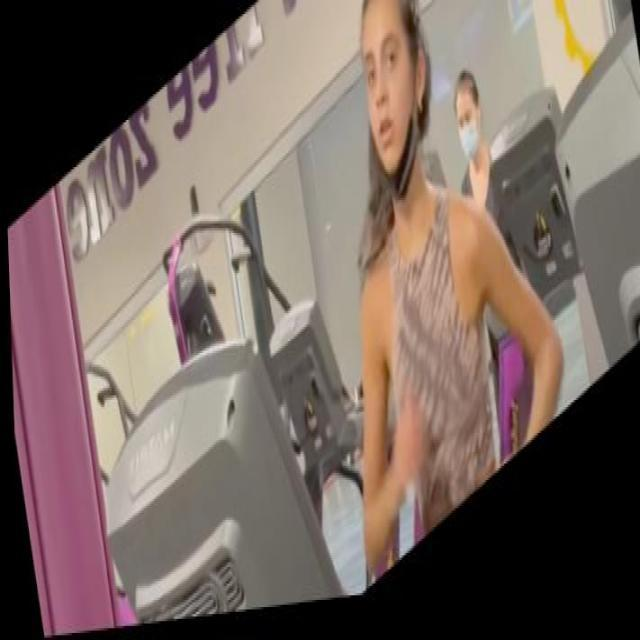hairnet: (356, 18, 424, 228)
